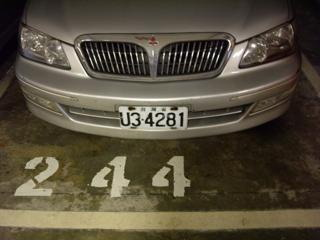plate: (117, 105, 190, 132)
